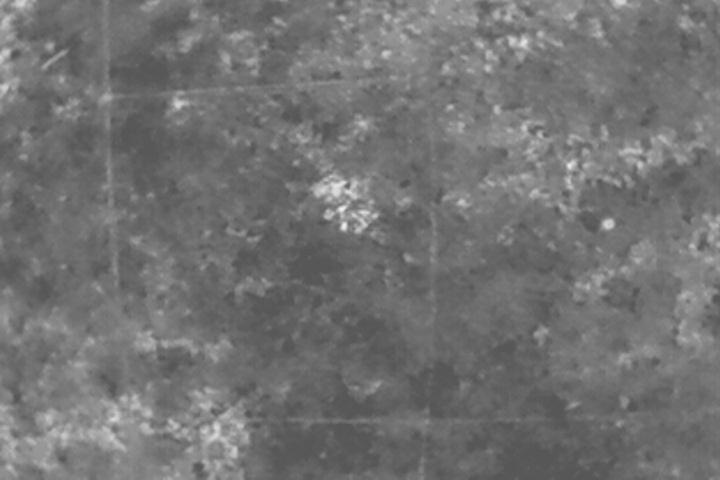landmine: (310, 169, 359, 216)
